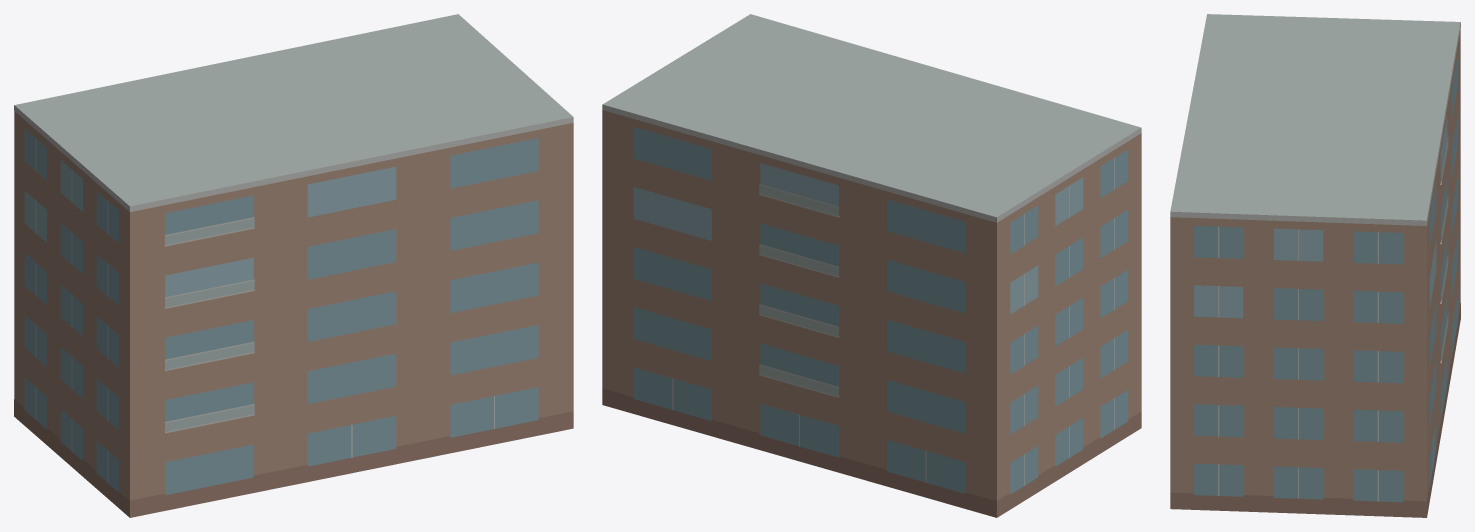
The model's file is survey-upis-32858905.glb.
3 views of the same model, side by side, from view 1: azimuth 30°, elevation 25°; view 2: azimuth 150°, elevation 25°; view 3: azimuth 270°, elevation 25° (orthographic). The views are drawn at different scales.
Visible parts, largest first — view 1: survey-upis-32858905.tmp; view 2: survey-upis-32858905.tmp; view 3: survey-upis-32858905.tmp.
Boxes of the visible parts, x1=… form: survey-upis-32858905.tmp: x1=14, y1=14, x2=573, y2=517; survey-upis-32858905.tmp: x1=602, y1=14, x2=1141, y2=517; survey-upis-32858905.tmp: x1=1170, y1=14, x2=1460, y2=517.
Size of the model in its own units: 20.06 by 13.45 by 11.92.
